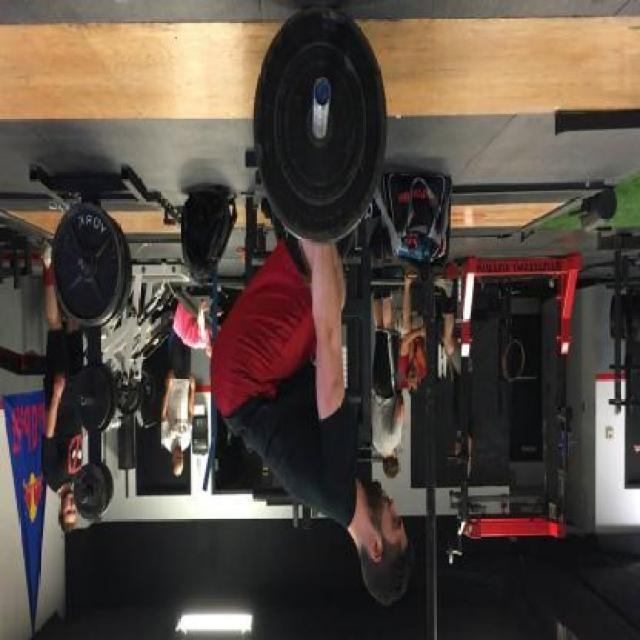Barbell: (312, 72, 334, 114)
